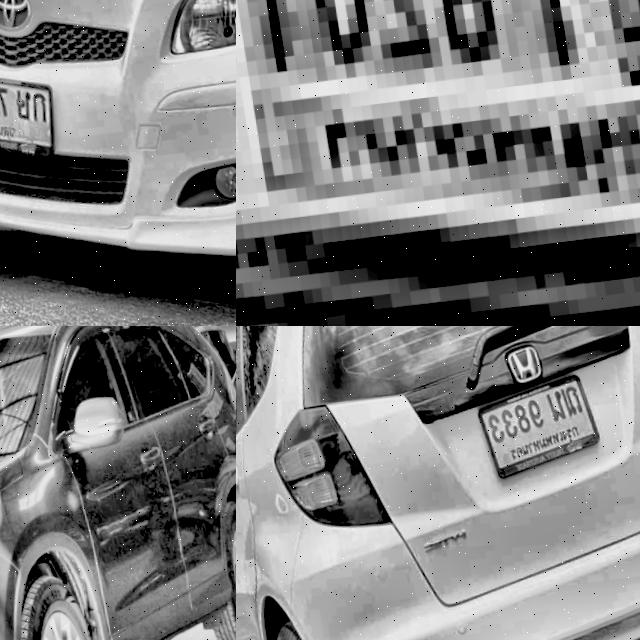license-plate: (236, 0, 640, 326), (467, 371, 603, 485), (0, 54, 63, 170)
